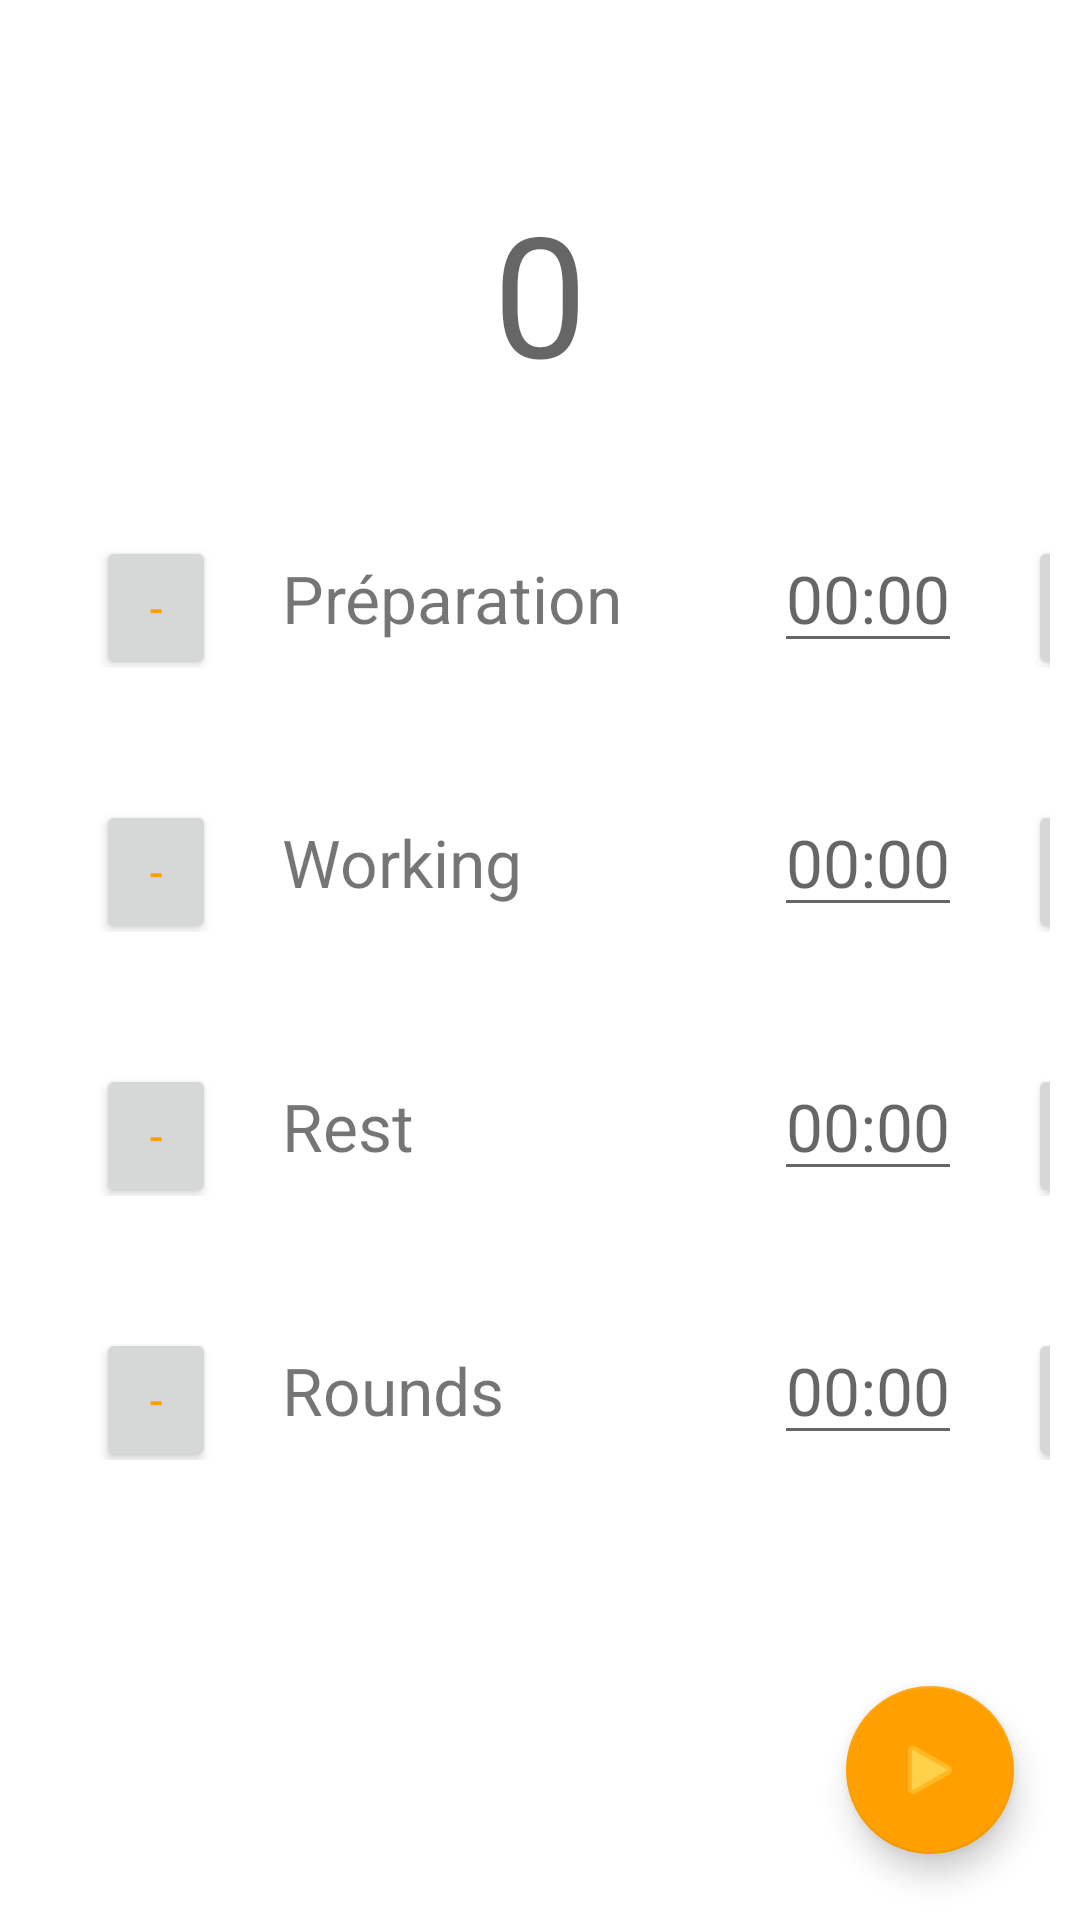

Icon bounding boxes for this 1080 x 1920 phone screenshot, format [left=x1, top=y1, right=x2, bottom=y2]:
play: [left=846, top=1686, right=1014, bottom=1854]
